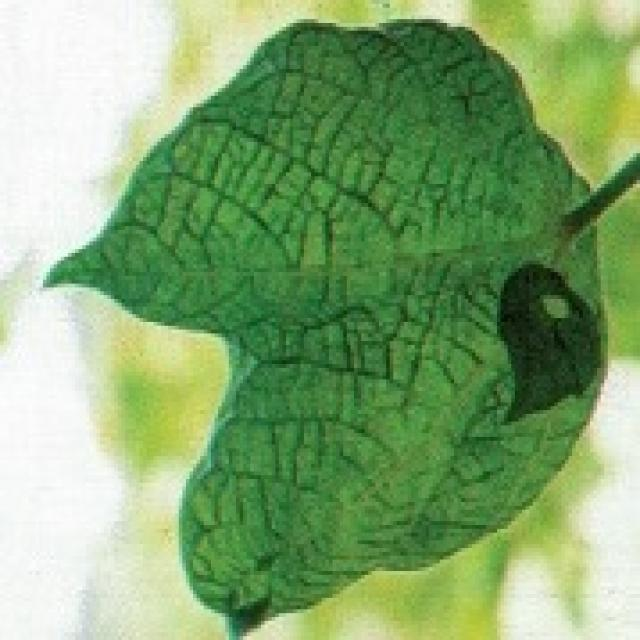Leaf Curl Virus: (226, 137, 600, 434)
